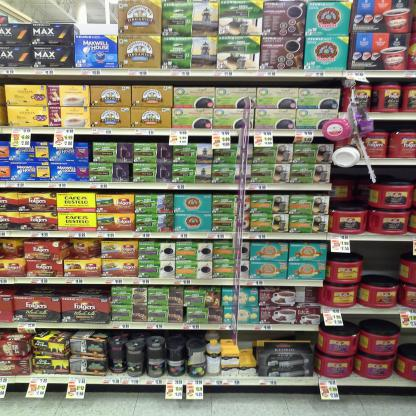Void: (11, 2, 74, 24), (78, 1, 118, 34), (334, 168, 367, 205), (364, 244, 394, 278)
